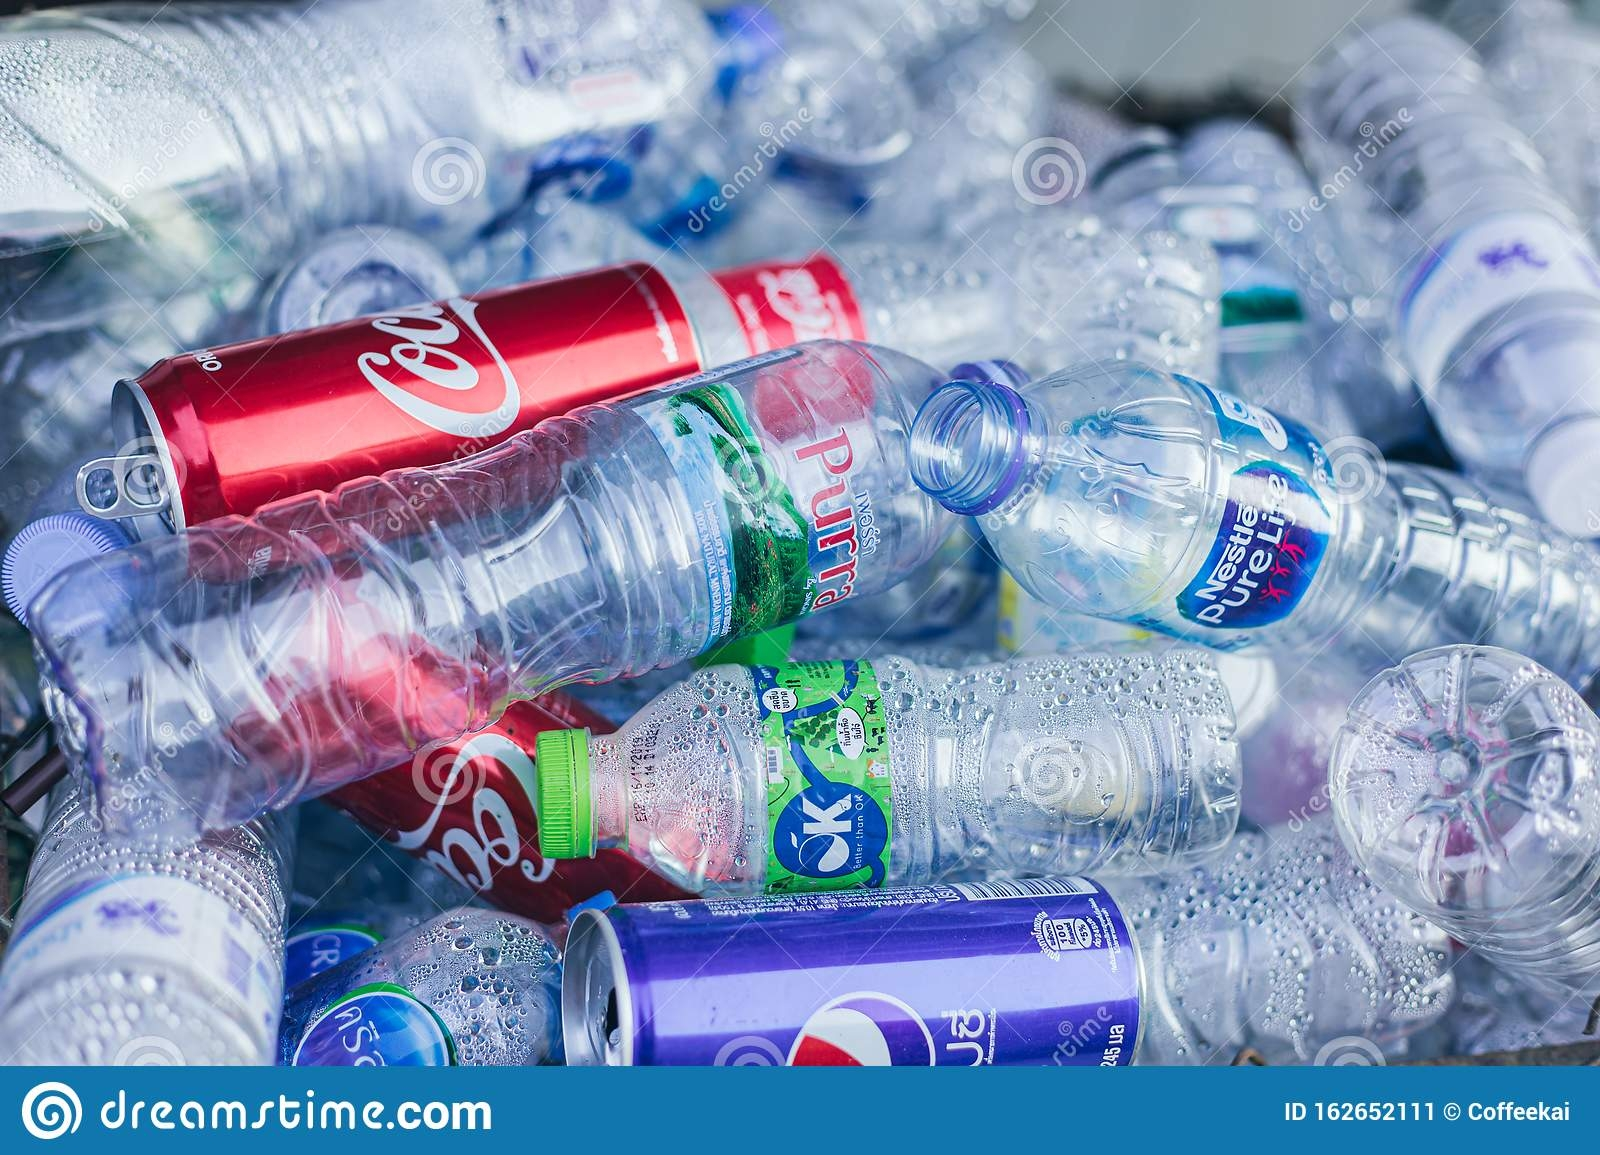metal: (65, 246, 730, 568), (542, 868, 1165, 1071)
plastic: (24, 342, 1039, 849), (875, 371, 1600, 699), (511, 633, 1273, 908), (1293, 22, 1600, 545), (1289, 636, 1600, 1017), (1, 746, 294, 1061)
